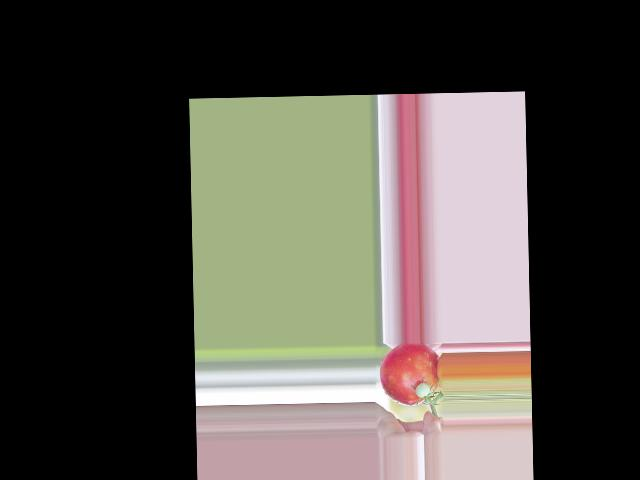tomato: (379, 341, 440, 406)
